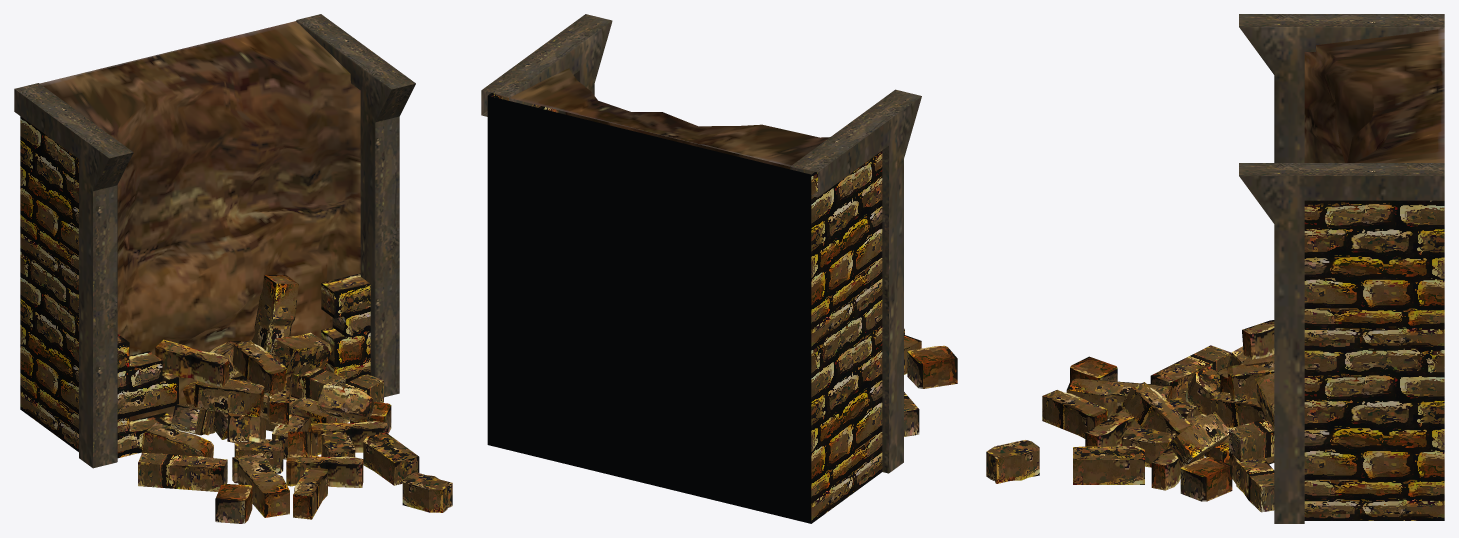
File: stoneWallH.fbx
3 views of the same model, side by side, from view 1: azimuth 30°, elevation 25°; view 2: azimuth 150°, elevation 25°; view 3: azimuth 270°, elevation 25° (orthographic). The views are drawn at different scales.
Visible parts, largest first — view 1: stoneWallH; view 2: stoneWallH; view 3: stoneWallH.
Boxes of the visible parts, box(x1,y1,x2,y2) form: stoneWallH: box(14, 14, 452, 523); stoneWallH: box(481, 14, 957, 523); stoneWallH: box(986, 14, 1444, 523).
Bounding box in the file's own units: 300 × 301 × 359.
